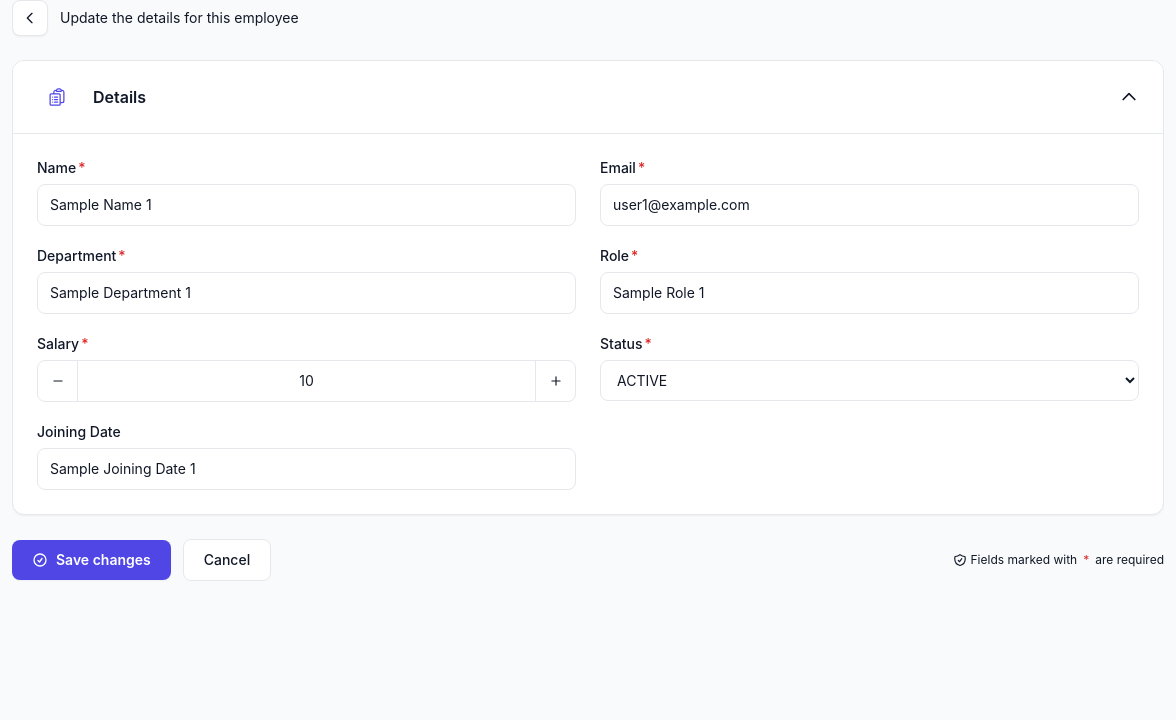
EmployeeFormPage — edit › shows server error when update API fails
Click the button "Save changes": (91, 560) [12, 540, 171, 580]
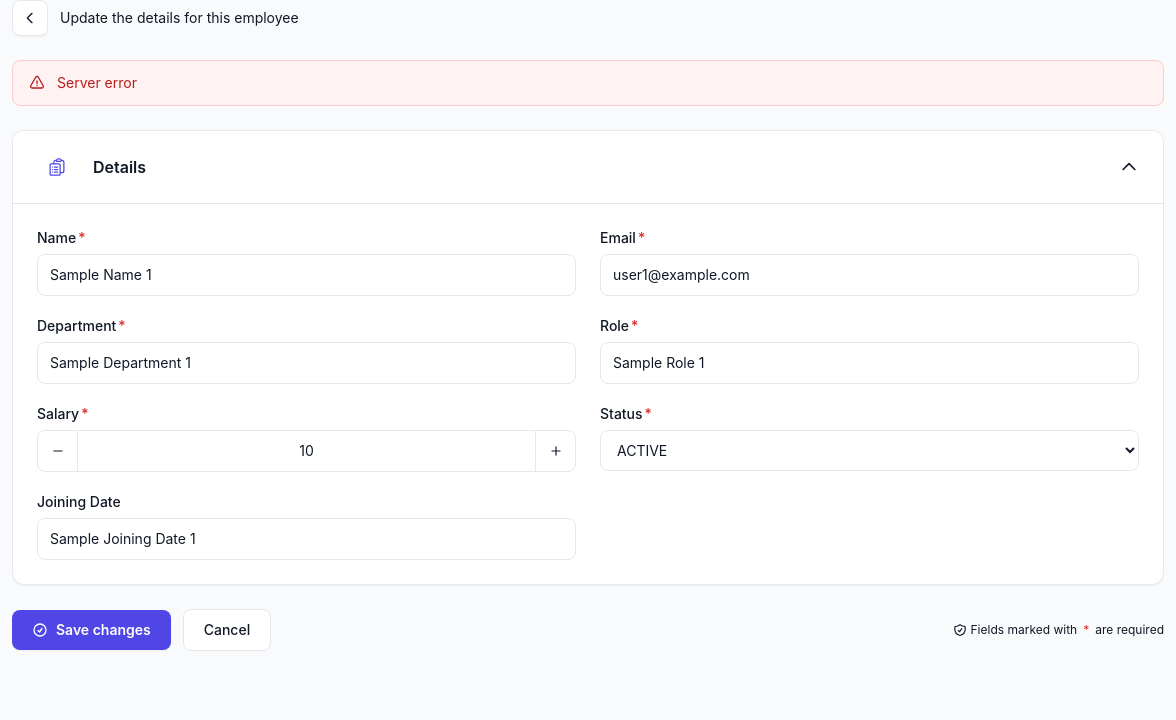
Result: the message "Server error" is shown at [12, 60, 1164, 106]
